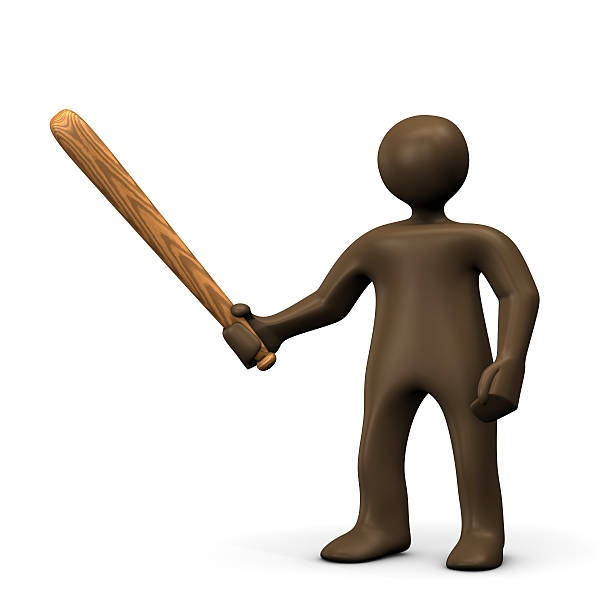bita: (51, 105, 269, 370)
